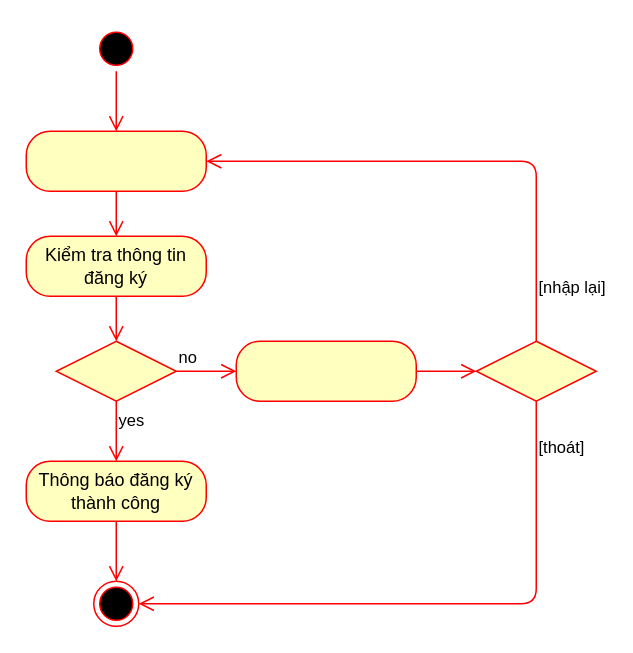
Some shapes in this 633 by 653 pixel diagram are drawn without their labels. The shapes that lost their labels are listed below. From the top down, each one's box as (x1, y1, x2, y2) in pixels, then its label:
(25, 130, 206, 191): Nhận thông tin đăng ký
(235, 340, 416, 401): Thông báo đăng ký thất bại
